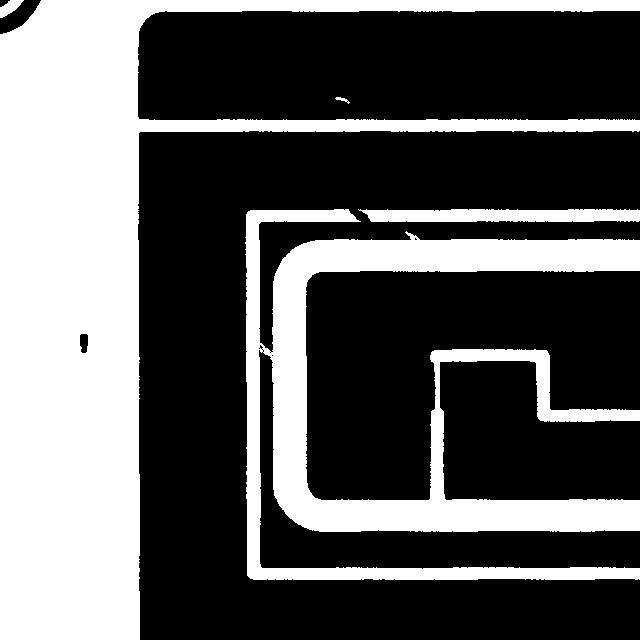copper: (70, 324, 97, 362)
mousebite: (395, 221, 429, 251)
open: (246, 332, 282, 369)
pin-hole: (325, 87, 359, 113)
short: (339, 196, 379, 233)
